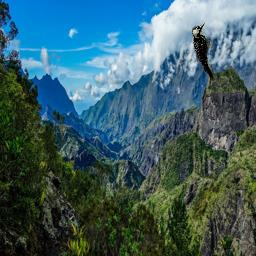Woodpecker: (189, 21, 218, 86)
